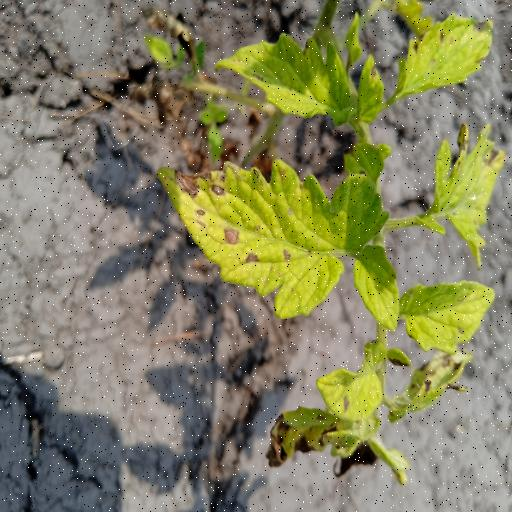Tomato_Brown_Spots: (148, 145, 381, 326)
